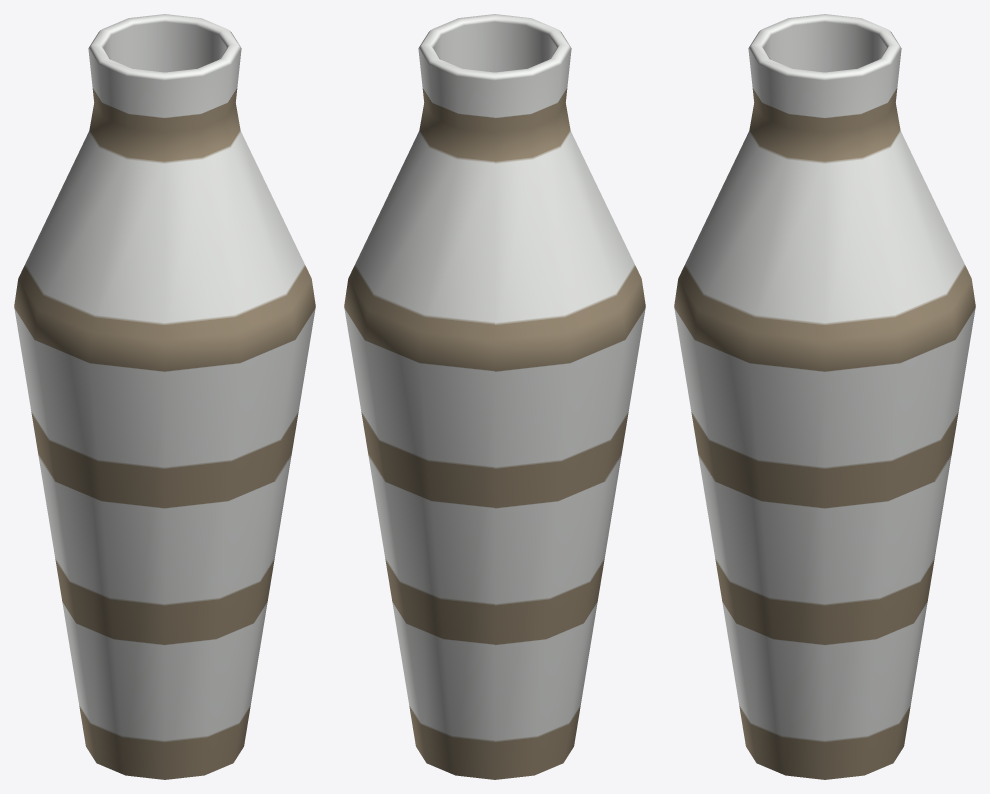
File: Vase_v01.fbx
The picture shows the model from 3 angles, left to right: view 1: azimuth 30°, elevation 25°; view 2: azimuth 150°, elevation 25°; view 3: azimuth 270°, elevation 25°; orthographic projection.
Visible parts, largest first — view 1: Vase; view 2: Vase; view 3: Vase.
Boxes of the visible parts, box(x1,y1,x2,y2) form: Vase: box(14, 14, 315, 779); Vase: box(344, 14, 645, 779); Vase: box(674, 14, 975, 779).
Size of the model in its own units: 7.79 by 20 by 7.79.
